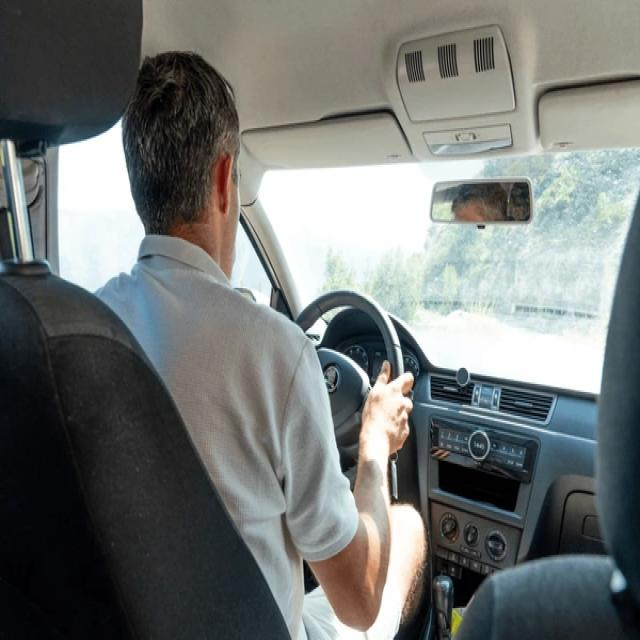skoda: (322, 358, 344, 394)
